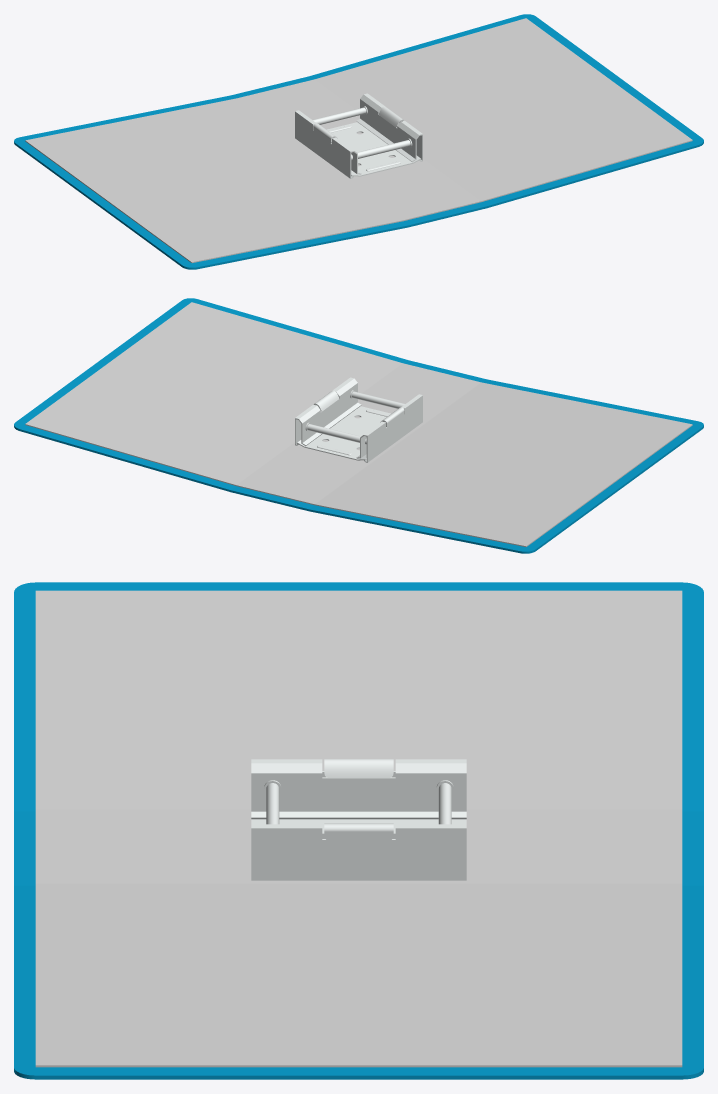
File: 451_パイプ式ファイル中開.glb
3 renders of one model, top to bottom at view 1: azimuth 30°, elevation 25°; view 2: azimuth 150°, elevation 25°; view 3: azimuth 270°, elevation 25°, orthographic. The views are drawn at different scales.
Visible parts, largest first — view 1: 451_pipe_file_M_open; view 2: 451_pipe_file_M_open; view 3: 451_pipe_file_M_open.
Boxes of the visible parts, left/top/right/bottom form: 451_pipe_file_M_open: left=14, top=14, right=703, bottom=269; 451_pipe_file_M_open: left=14, top=298, right=703, bottom=553; 451_pipe_file_M_open: left=14, top=582, right=703, bottom=1079.
Size of the model in its own units: 0.5413 by 0.031 by 0.32.
